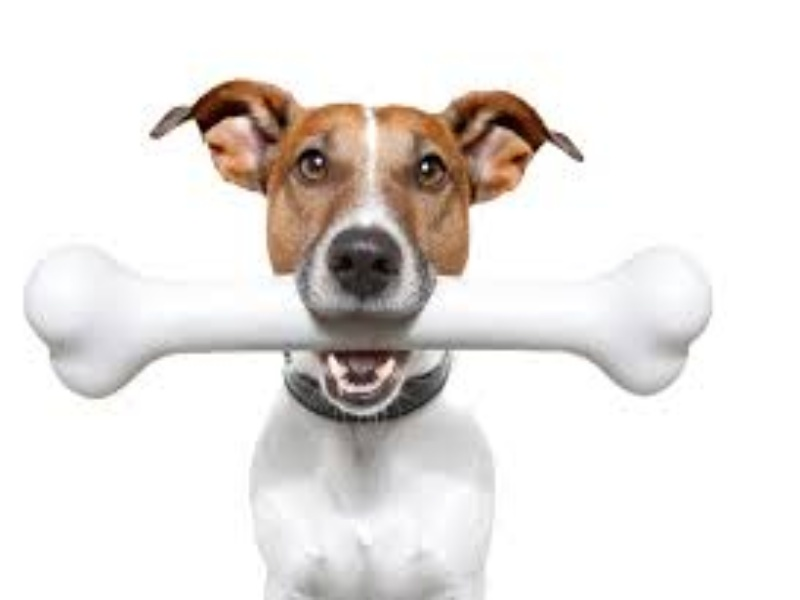dog: (25, 61, 738, 594)
